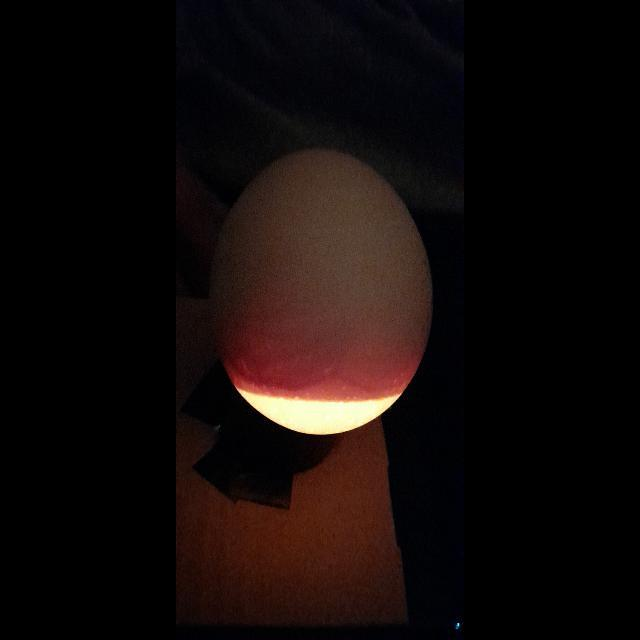Fertile: (217, 140, 435, 438)
